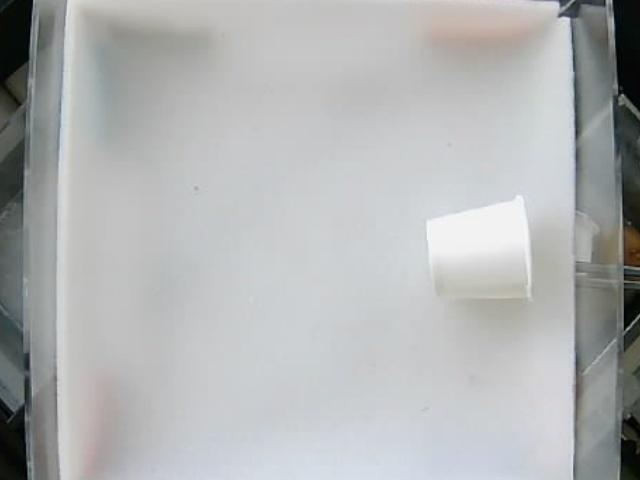Cup: (425, 193, 537, 302)
